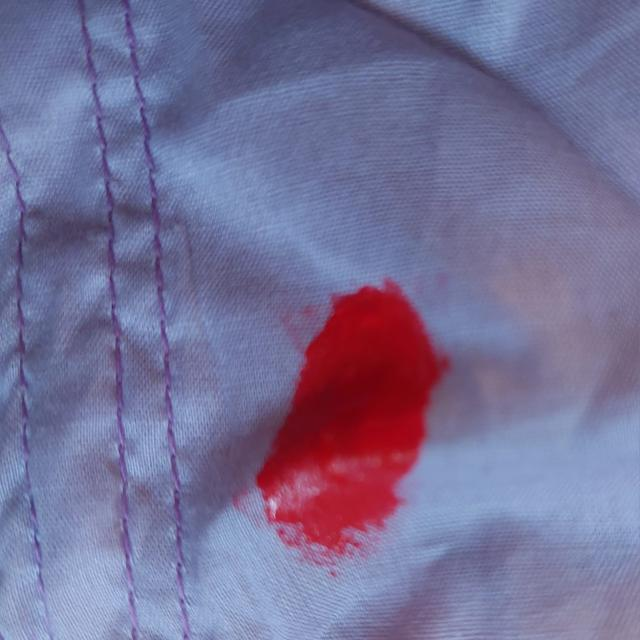Stain: (228, 270, 456, 580)
seam: (75, 1, 194, 640), (0, 122, 61, 639)
